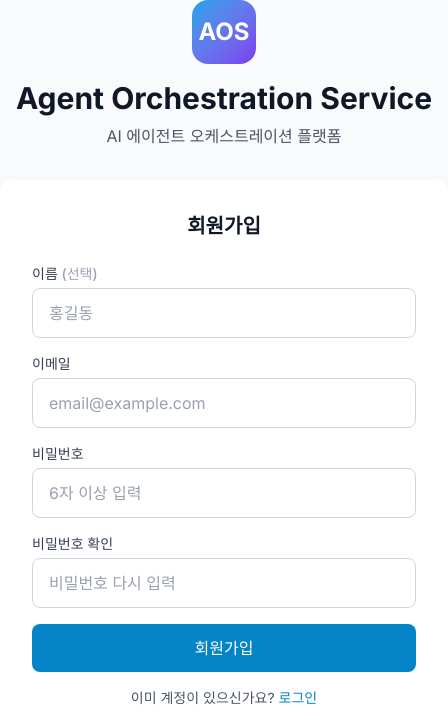
RegisterPage › shows loading state during submission
The width and height of the screenshot is (448, 720).
Type "test@test.com" into the field labelled "이메일". click: (224, 403)
box: x1=32 y1=378 x2=416 y2=428
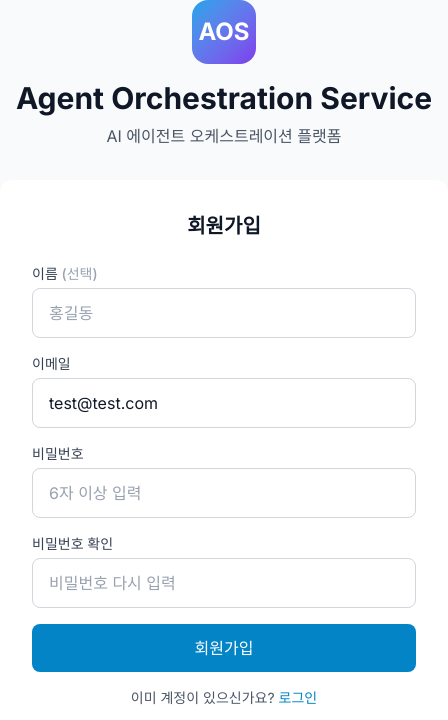
Type "password123" into the password field labelled "비밀번호". click: (224, 493)
box: x1=32 y1=468 x2=416 y2=518
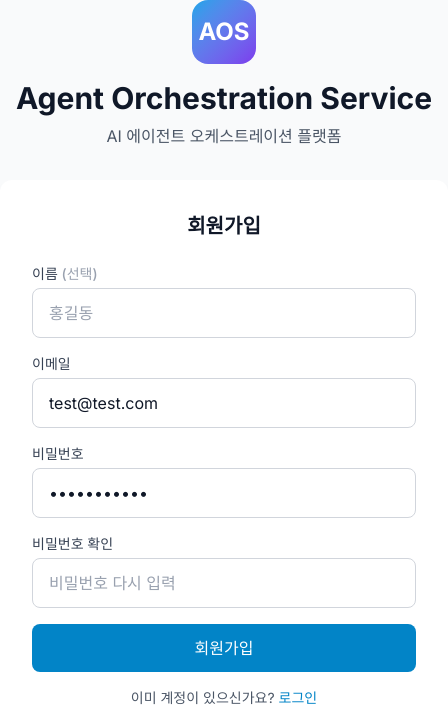
Type "password123" into the password field labelled "비밀번호 확인". click: (224, 583)
box: x1=32 y1=558 x2=416 y2=608
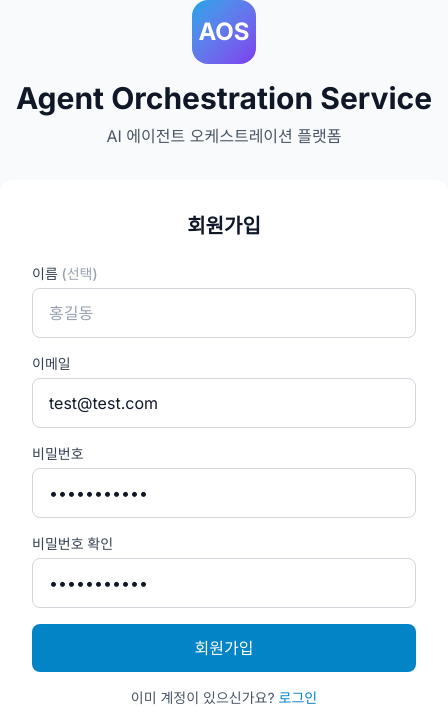
Submit the form from the button "회원가입", box x1=32 y1=624 x2=416 y2=672
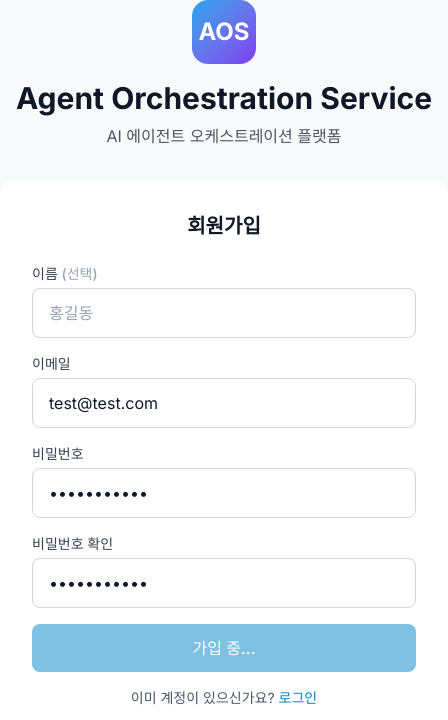
Check: the button "가입 중..." is shown, box x1=32 y1=624 x2=416 y2=672
